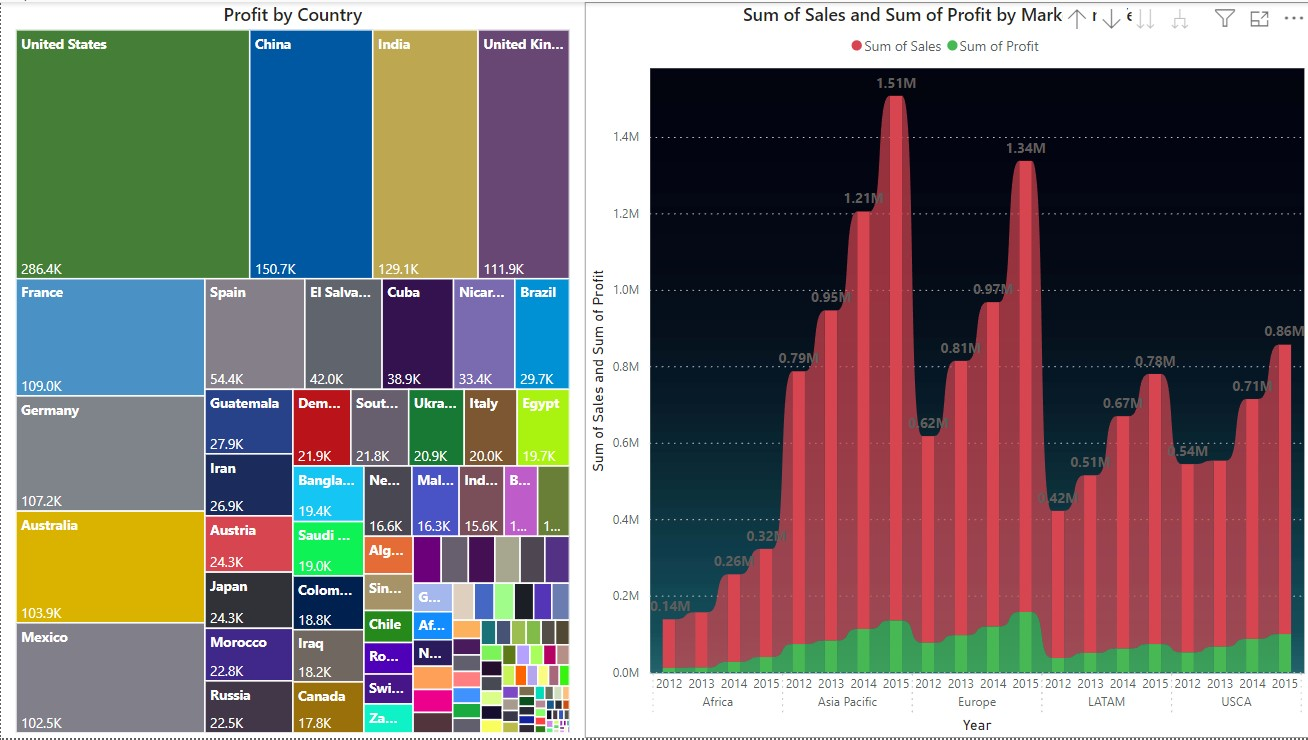

The dashboard page shown, as its layout file describes it:
{"tool":"powerbi","page":{"name":"Comparision","canvas":[1280,720],"ordinal":3},"visuals":[{"type":"treemap","title":"Profit by Country","fields":{"Group":["Orders.Country"],"Values":["Sum(Orders.Profit)"]},"box":[9.8,0,551.5,720.2],"z":0},{"type":"ribbonChart","fields":{"Category":["Orders.Market","Orders.Order Date.Variation.Date Hierarchy.Year"],"Y":["Sum(Orders.Sales)","Sum(Orders.Profit)"]},"box":[571.1,0,709.2,720.2],"z":1000}]}

Visuals, with their boxes on the page's 1280x720 design canvas (x1, y1, x2, y2). These are canvas units, not pixel positions in the 1308x740 screenshot, which may show the page scaled, cropped or inside an application window:
"Profit by Country" treemap: (10, 0, 561, 720)
ribbonChart - Orders.Market x Orders.Order Date.Variation.Date Hierarchy.Year: (571, 0, 1280, 720)
